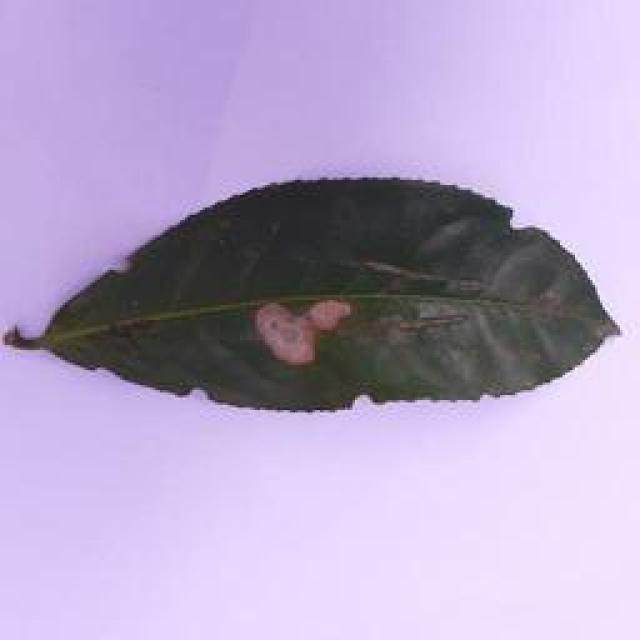Gray Blight: (0, 166, 631, 418)
